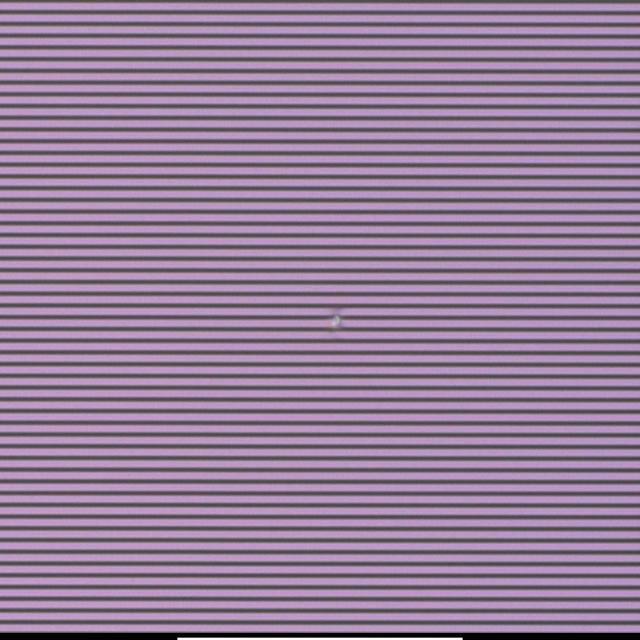nonvisual: (332, 311, 346, 332)
